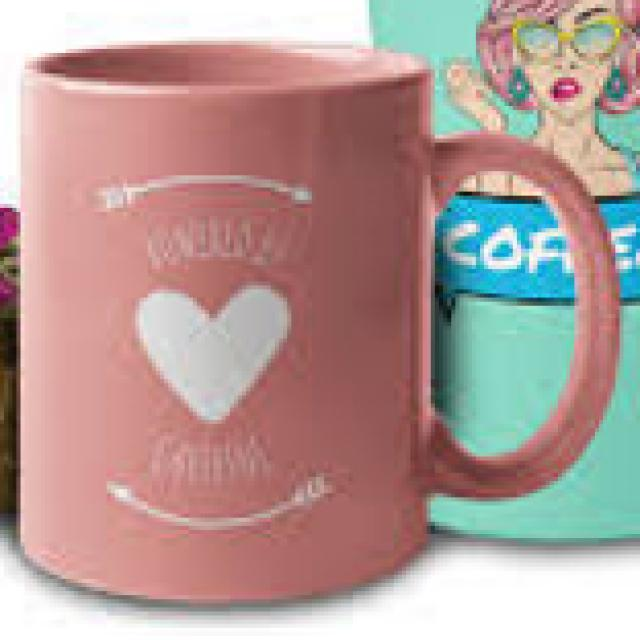taza: (21, 38, 620, 614)
